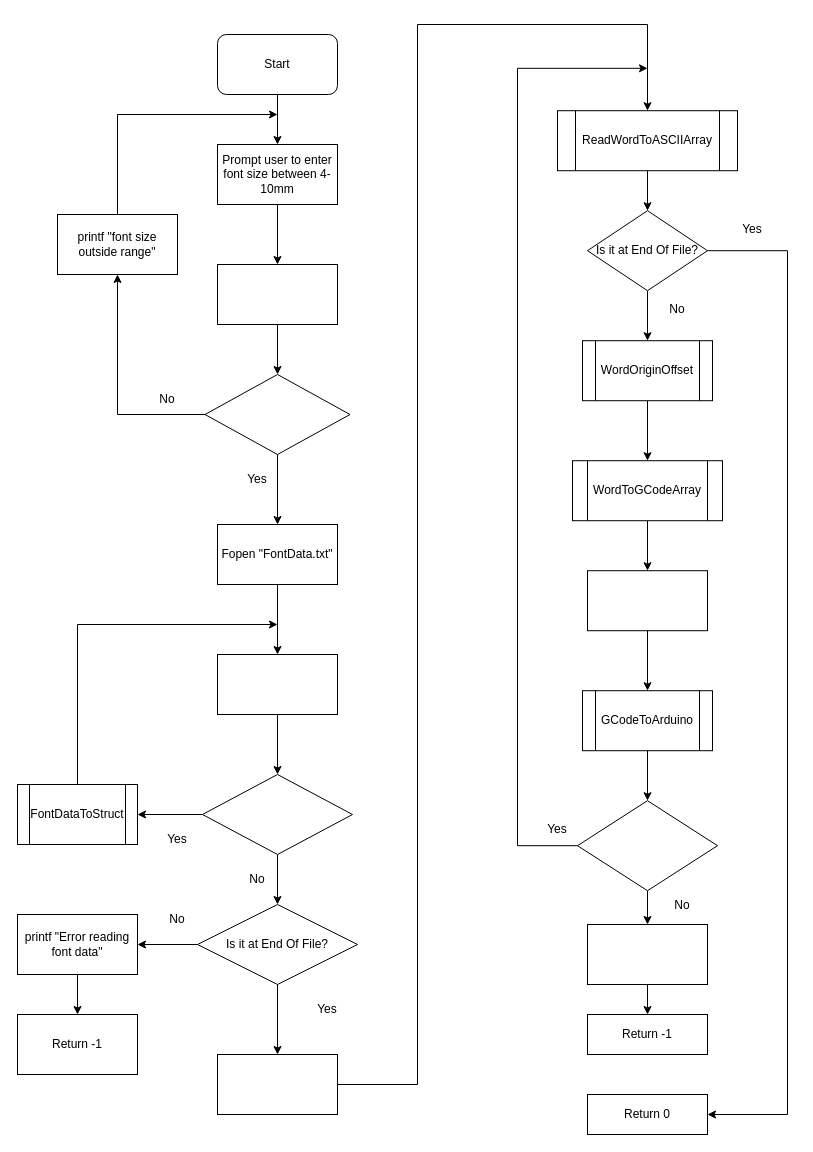
Image size: 813x1152. Some labels were removed from this diagram. The box of each missing label's shape, as (x1, y1, x2, y2) in pixels:
Fclose "FontData.txt: (216, 1054, 338, 1114)
Fscanf value: (216, 654, 338, 714)
Has arduino acknowledged OK?: (576, 800, 718, 891)
Is font size 4-10mm?: (204, 374, 350, 454)
Is value 999?: (202, 774, 352, 854)
printf "Error sending G-Code": (586, 924, 708, 984)
Read input size as integer: (216, 264, 338, 324)
Store end coordinates: (586, 570, 708, 631)
